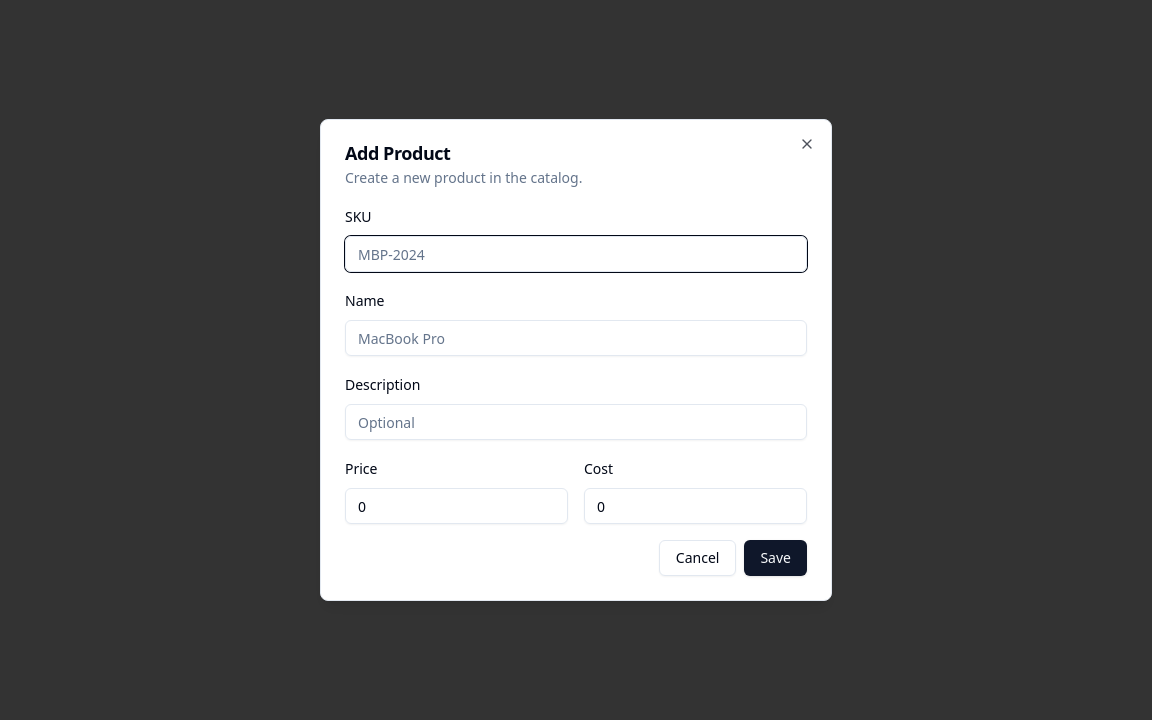
Scenario: ProductFormDialog (商品追加フォーム) › 商品名が空の場合にバリデーションエラーが表示され、サブミットされない
// Fill SKU but not name, leave price/cost at 0
Type "TEST-1" into the field labelled "SKU". click: (576, 254)
box: [345,236,807,272]
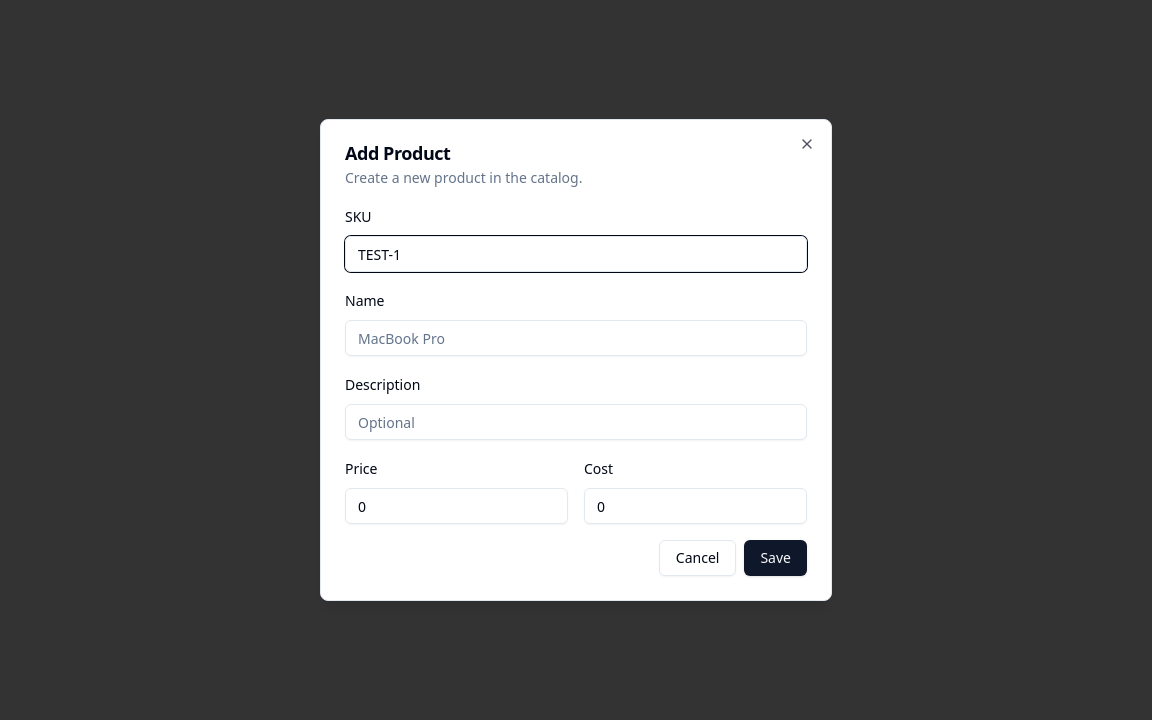
Click the button "Save". click: click(776, 558)
box: [744,540,807,576]
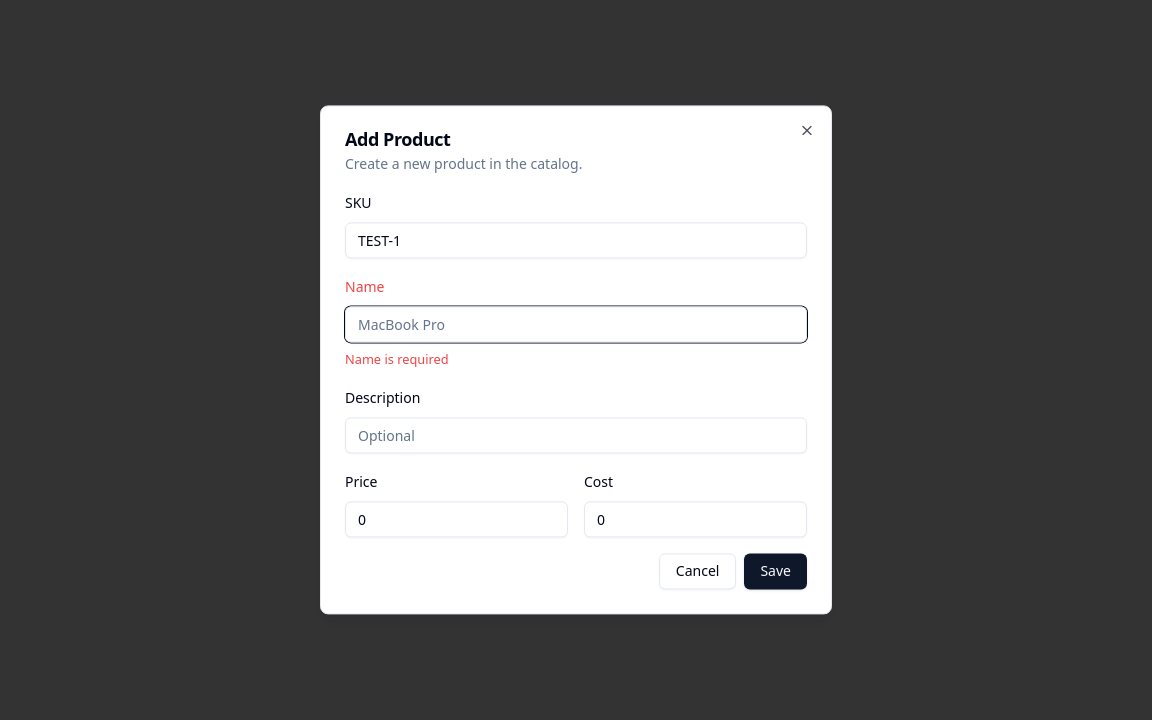
Expected: the text "Name is required" is shown, [345,350,449,368]
